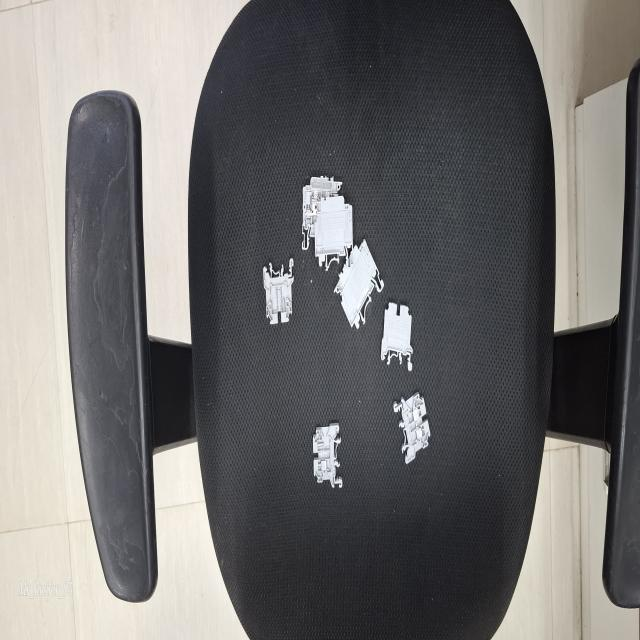Inverted: (379, 288, 419, 386)
Pass: (386, 380, 446, 482)
Reject: (248, 238, 301, 336), (305, 416, 345, 499)
